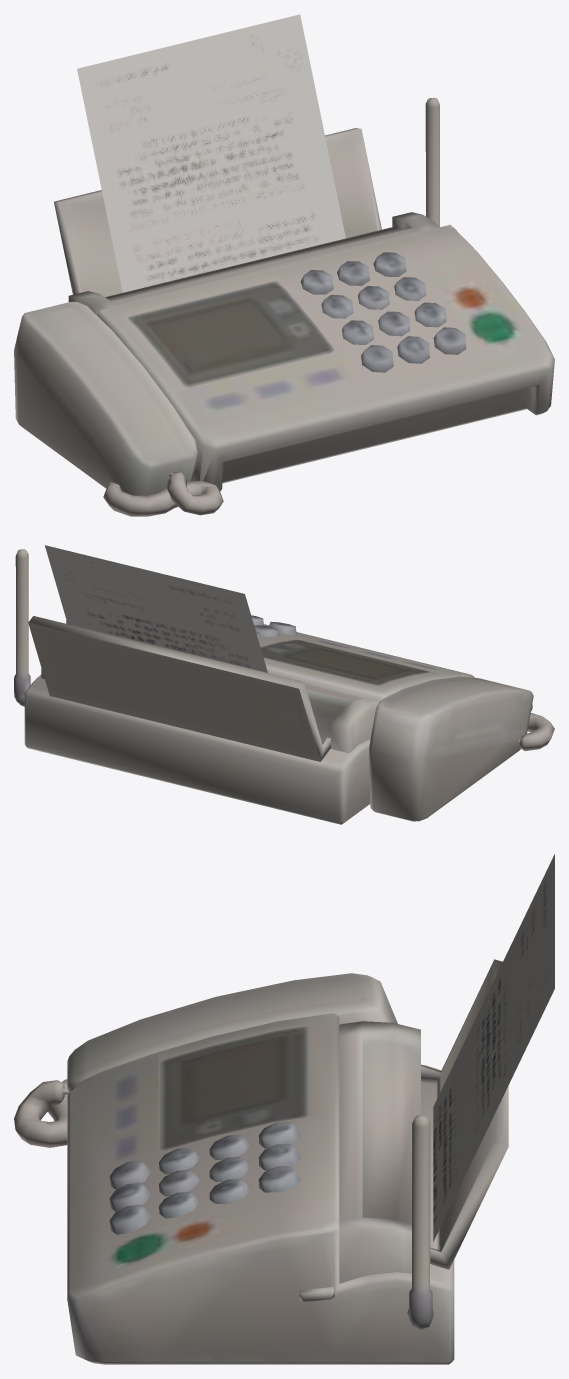
The picture shows the model from 3 angles, top to bottom: view 1: azimuth 30°, elevation 25°; view 2: azimuth 150°, elevation 25°; view 3: azimuth 270°, elevation 25°; orthographic projection. The views are drawn at different scales.
Size of the model in its own units: 8.93 by 5.01 by 7.25.
Materials: 2 (2 with a texture image).
